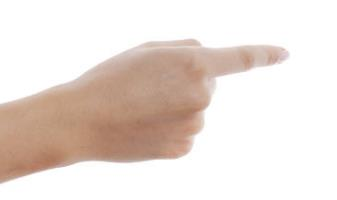up: (77, 38, 294, 165)
